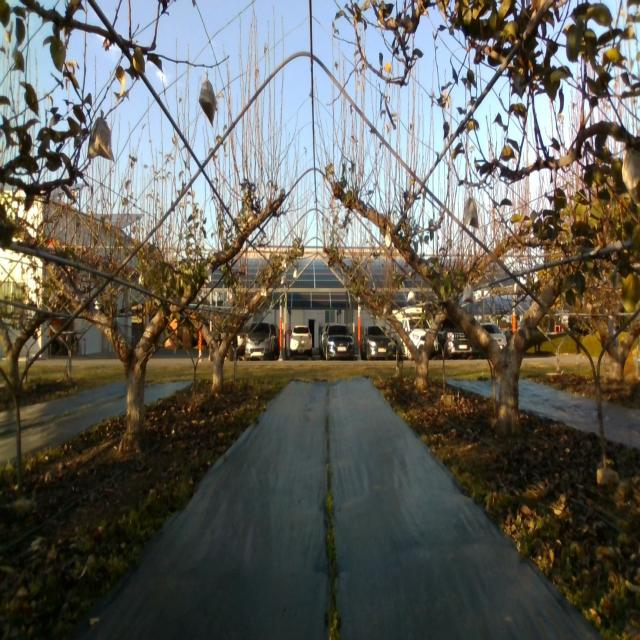pearbags: (86, 117, 115, 163), (621, 148, 640, 204), (199, 78, 216, 128), (463, 198, 479, 228), (461, 282, 476, 307)
